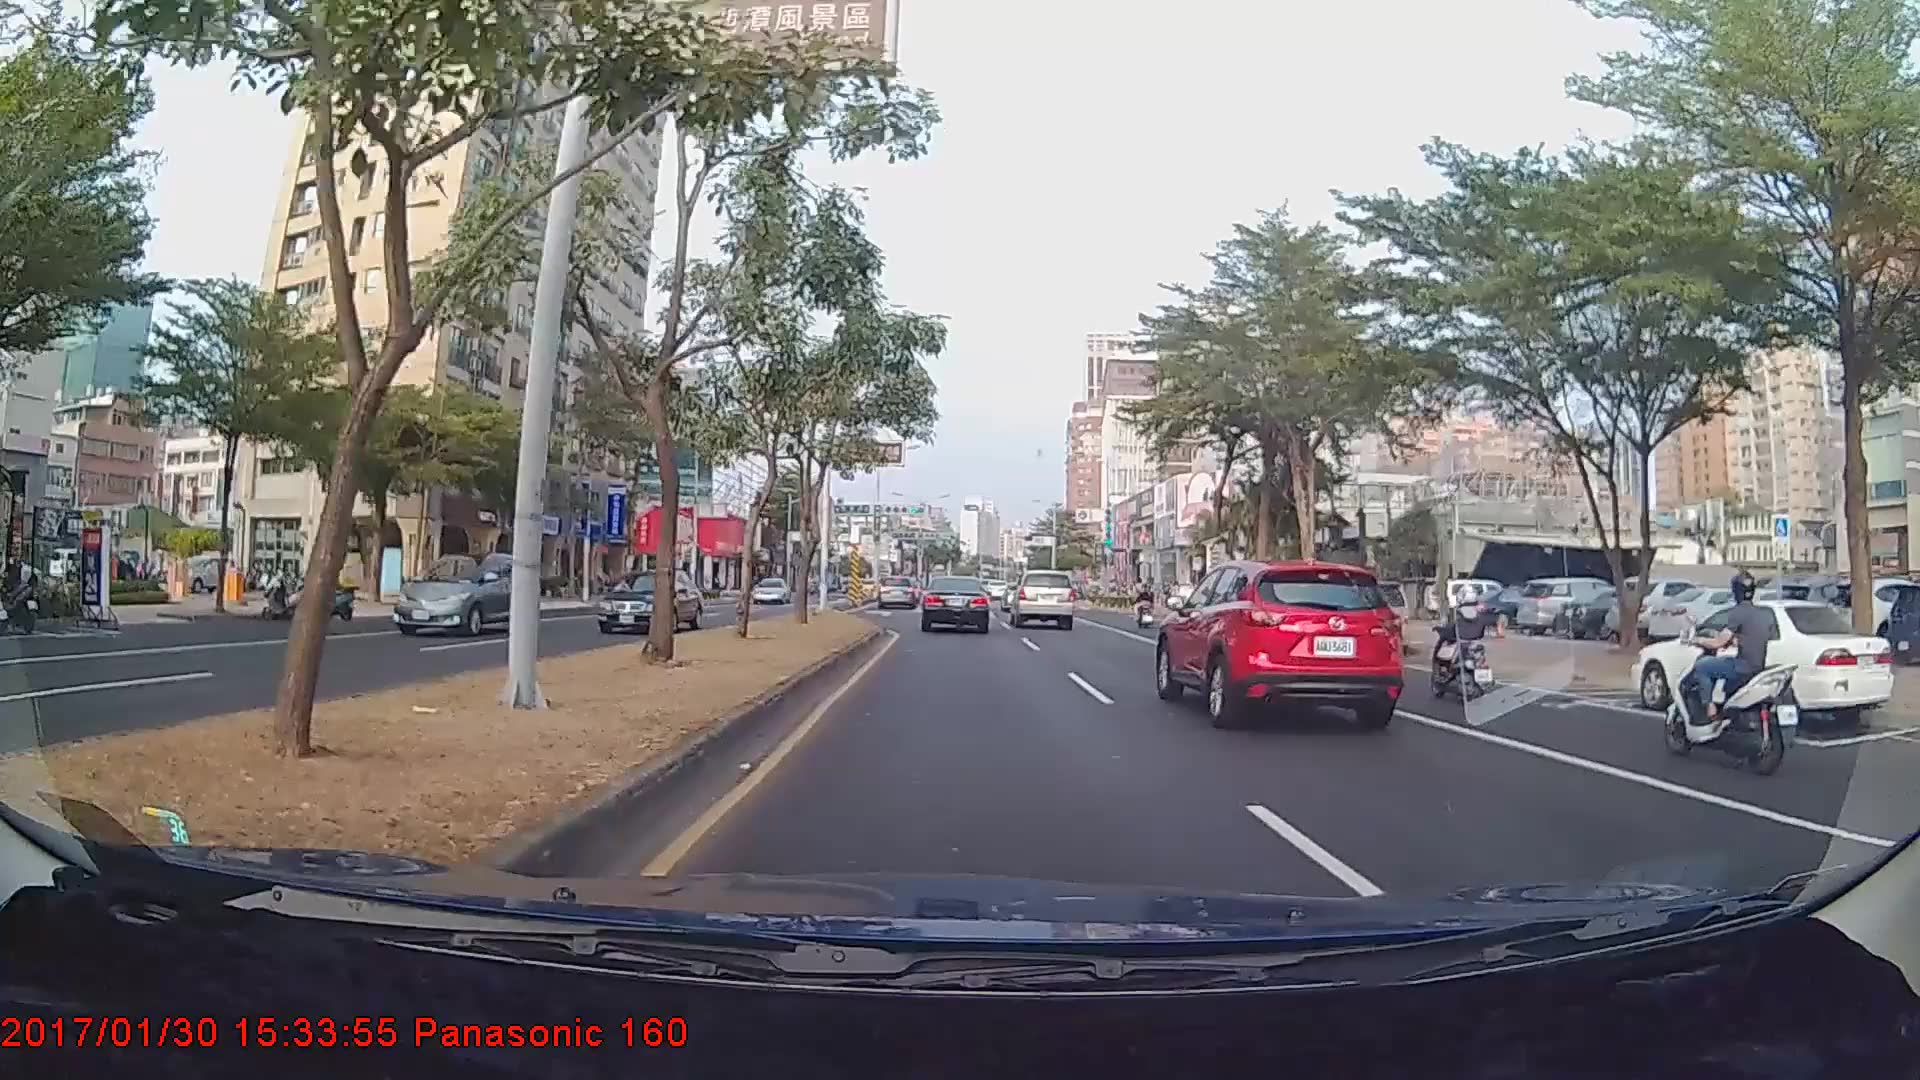rider: (1653, 555, 1806, 772), (1415, 576, 1504, 703), (1135, 575, 1161, 628)
vehicle: (1152, 554, 1403, 730), (1626, 597, 1894, 728), (391, 552, 537, 636), (596, 565, 703, 636), (1513, 573, 1632, 635), (919, 574, 991, 634), (1005, 568, 1076, 629), (875, 573, 922, 610), (753, 574, 788, 603)
